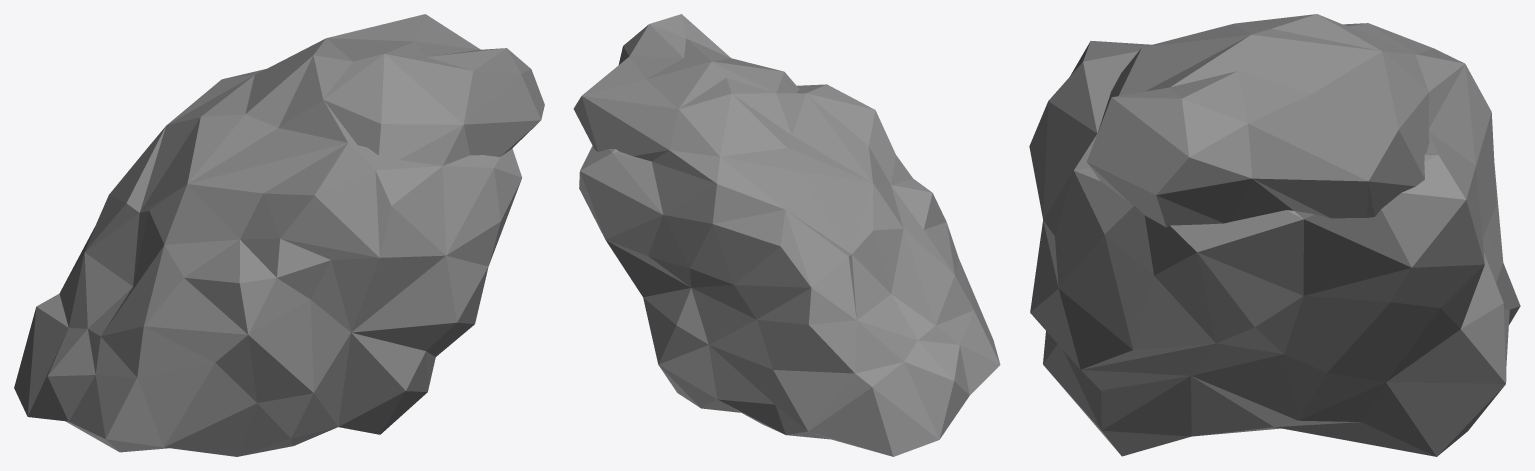
The model's file is Stone_7.fbx.
3 views of the same model, side by side, from view 1: azimuth 30°, elevation 25°; view 2: azimuth 150°, elevation 25°; view 3: azimuth 270°, elevation 25° (orthographic). The views are drawn at different scales.
Visible parts, largest first — view 1: Stone_7; view 2: Stone_7; view 3: Stone_7.
Boxes of the visible parts, x1=… form: Stone_7: x1=14, y1=14, x2=544, y2=456; Stone_7: x1=573, y1=14, x2=1000, y2=456; Stone_7: x1=1029, y1=14, x2=1520, y2=456.
Size of the model in its own units: 5.89 by 4.34 by 4.22.
